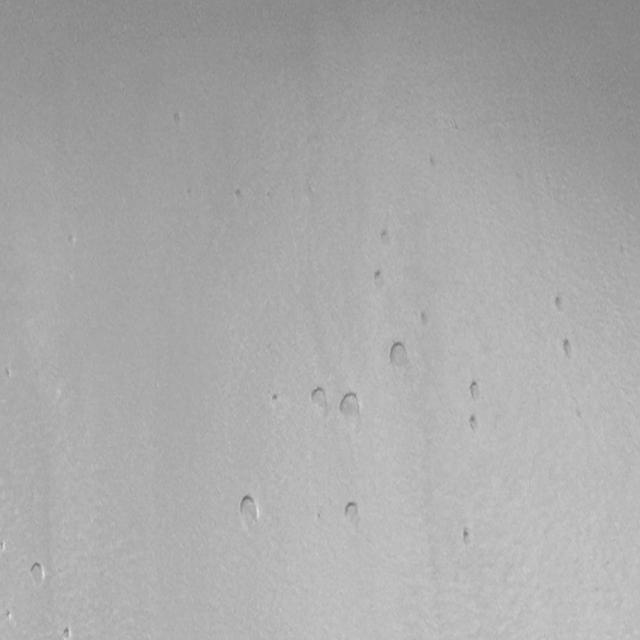pin holes: (337, 388, 365, 426), (237, 492, 264, 528), (388, 341, 412, 371), (308, 384, 331, 415), (342, 498, 363, 526), (28, 562, 48, 590), (558, 337, 578, 363), (457, 526, 476, 553), (467, 379, 484, 403), (552, 293, 571, 314), (376, 226, 394, 248), (417, 309, 434, 331), (169, 111, 186, 131), (468, 411, 482, 433), (372, 268, 387, 288), (232, 187, 246, 205), (65, 232, 78, 249), (59, 626, 74, 640), (269, 393, 283, 408), (4, 608, 17, 624), (2, 366, 14, 382), (0, 539, 7, 555)
